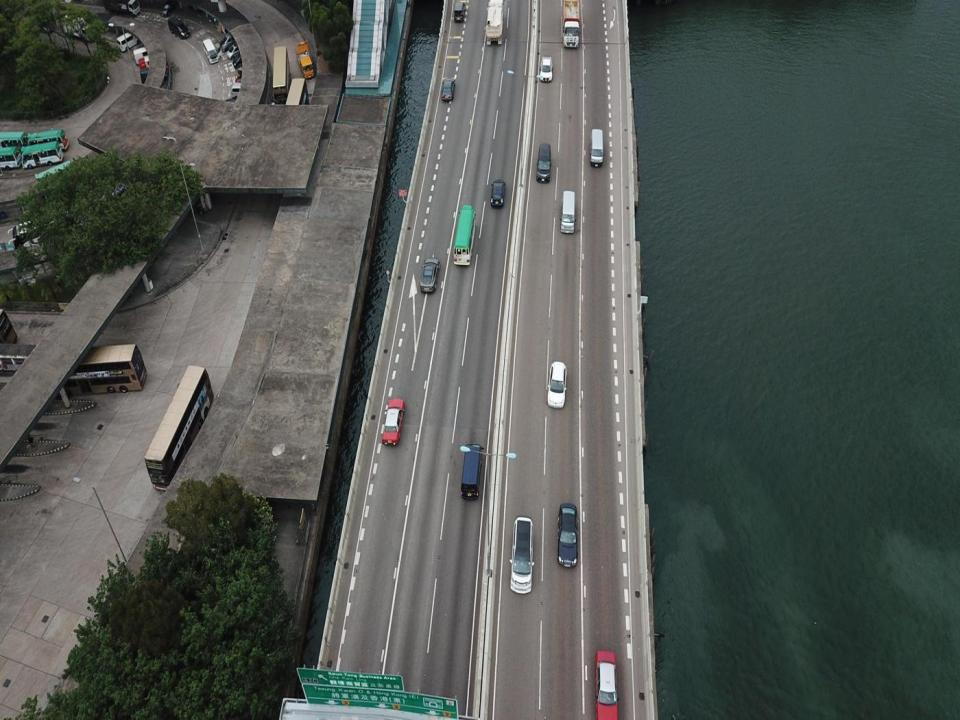bus: (142, 364, 216, 490), (51, 340, 145, 397), (9, 207, 92, 253), (282, 79, 308, 160), (265, 39, 291, 100), (482, 0, 509, 45), (21, 139, 65, 166), (26, 128, 69, 155), (559, 0, 581, 49), (1, 145, 20, 172), (3, 130, 24, 147)
car: (592, 648, 622, 719), (510, 515, 534, 596), (555, 499, 581, 568), (380, 396, 406, 447), (546, 361, 568, 409), (419, 257, 442, 292), (536, 140, 552, 182), (489, 176, 507, 208), (539, 54, 556, 84), (439, 76, 457, 100), (451, 0, 466, 25)
truck: (294, 36, 319, 80), (112, 1, 142, 18)
van: (459, 442, 486, 499), (560, 187, 578, 236), (588, 127, 606, 167), (115, 30, 140, 56), (168, 14, 192, 39), (138, 68, 167, 86), (220, 30, 248, 48), (201, 37, 219, 63), (231, 49, 257, 67), (132, 48, 159, 63), (233, 79, 255, 97), (227, 40, 254, 53), (139, 56, 161, 66)
